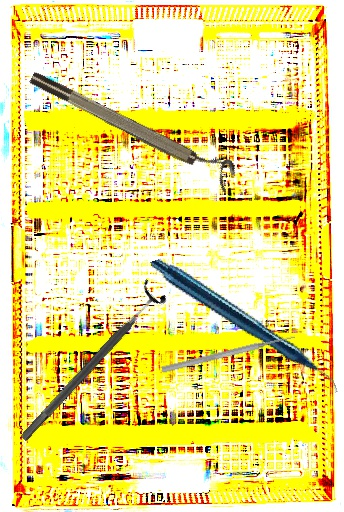Fixation Ring: (26, 58, 241, 193), (11, 278, 170, 450)
Handpiece: (150, 217, 338, 437)
Pusher: (160, 332, 297, 375)
